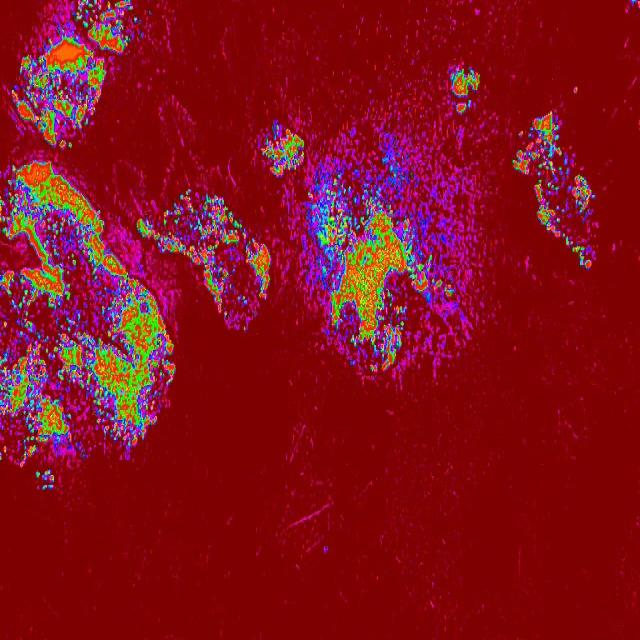fire: (300, 136, 456, 372), (0, 268, 136, 468), (136, 186, 272, 338), (10, 0, 140, 150), (512, 113, 602, 271), (0, 159, 121, 267), (136, 339, 180, 438), (257, 121, 307, 179), (448, 64, 484, 114), (34, 467, 58, 491), (629, 0, 640, 8), (573, 86, 580, 94)
